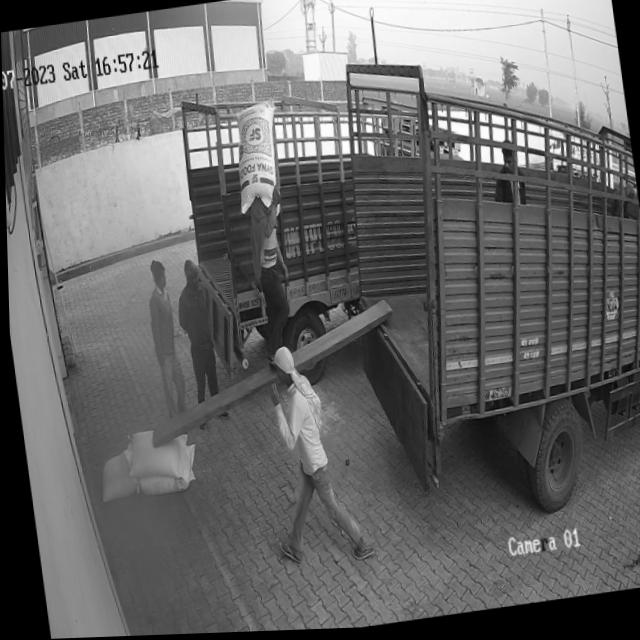sack: (226, 100, 286, 215)
